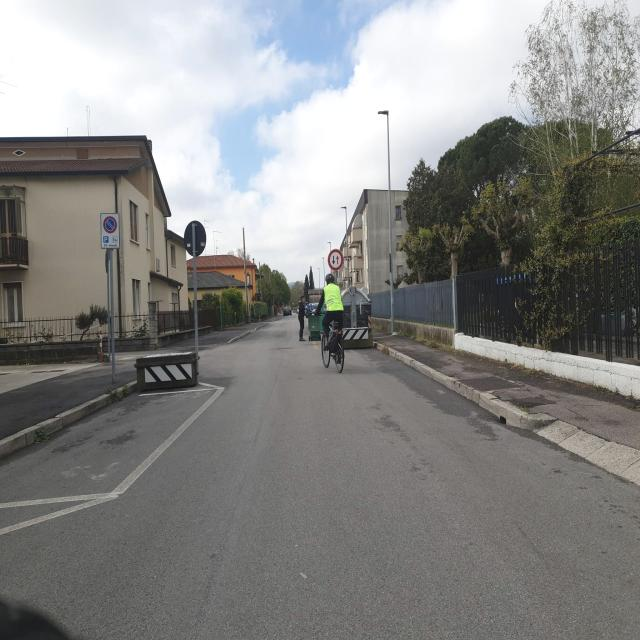bike: (320, 305, 346, 372)
car: (283, 305, 292, 318)
